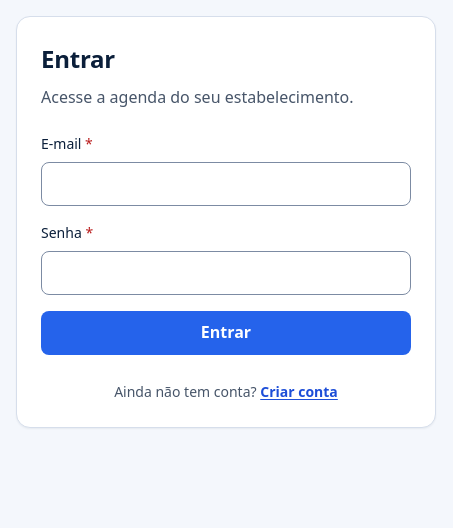
AuthScreen › no cadastro exige senha de 8 caracteres e pede confirmação por e-mail
Step 1. Click the button "Criar conta" → (299, 391), box [260,379,338,403]
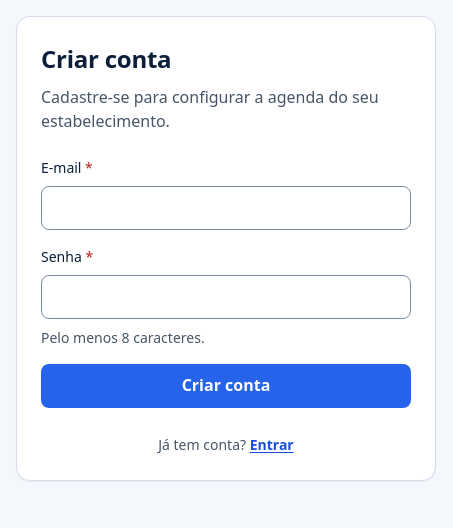
Step 2. Type "novo@exemplo.test" into the field labelled "E-mail *" → (226, 208), box [41,186,411,230]
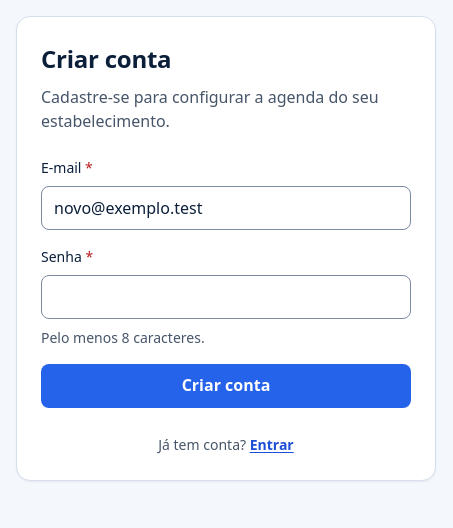
Step 3. Type "curta" into the password field labelled "Senha *" → (226, 297), box [41,275,411,319]
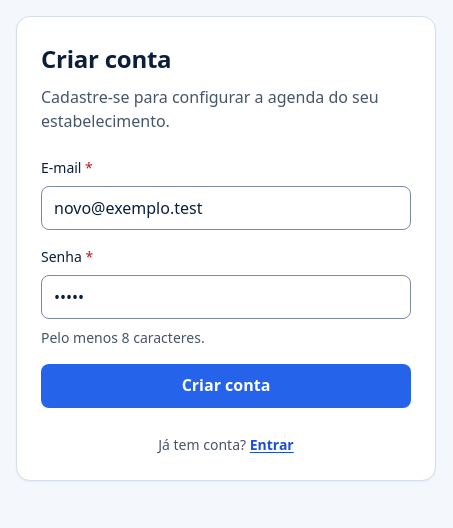
Step 4. Click the button "Criar conta" → (226, 386), box [41,364,411,408]
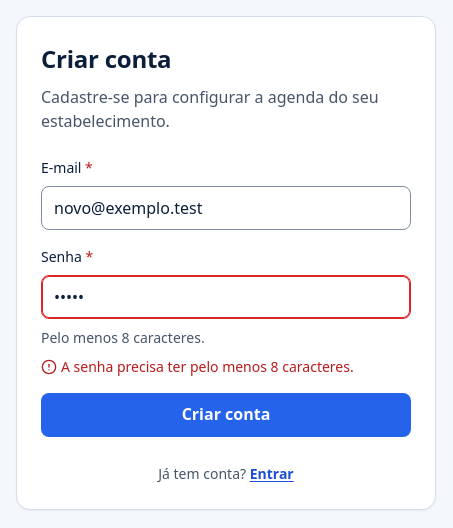
Now the text "A senha precisa ter pelo menos 8 caracteres." is shown, box [41,357,354,376]
Step 5. Type "senha-forte-123" into the password field labelled "Senha *" → (226, 297), box [41,275,411,319]
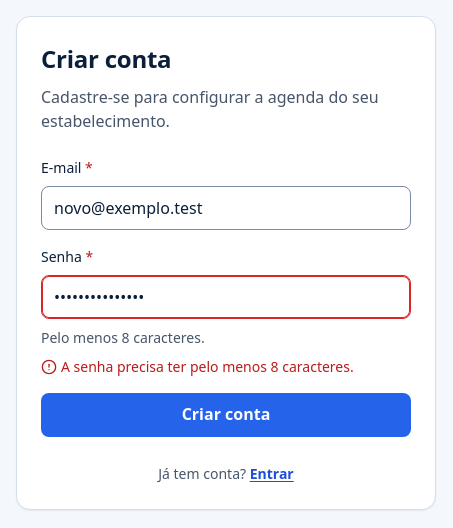
Step 6. Click the button "Criar conta" → (226, 415), box [41,393,411,437]
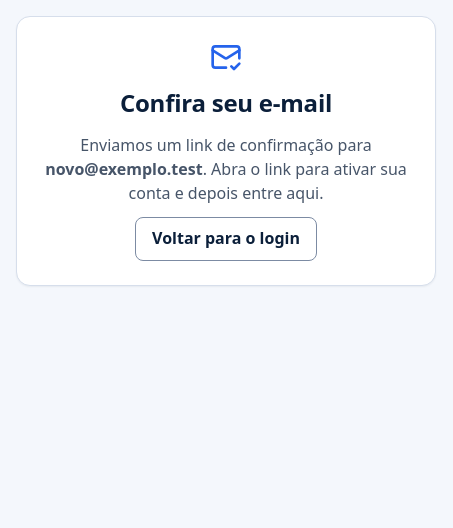
Now the heading "Confira seu e-mail" is shown, box [120,85,332,121]
Now the text "novo@exemplo.test" is shown, box [45,158,203,180]
